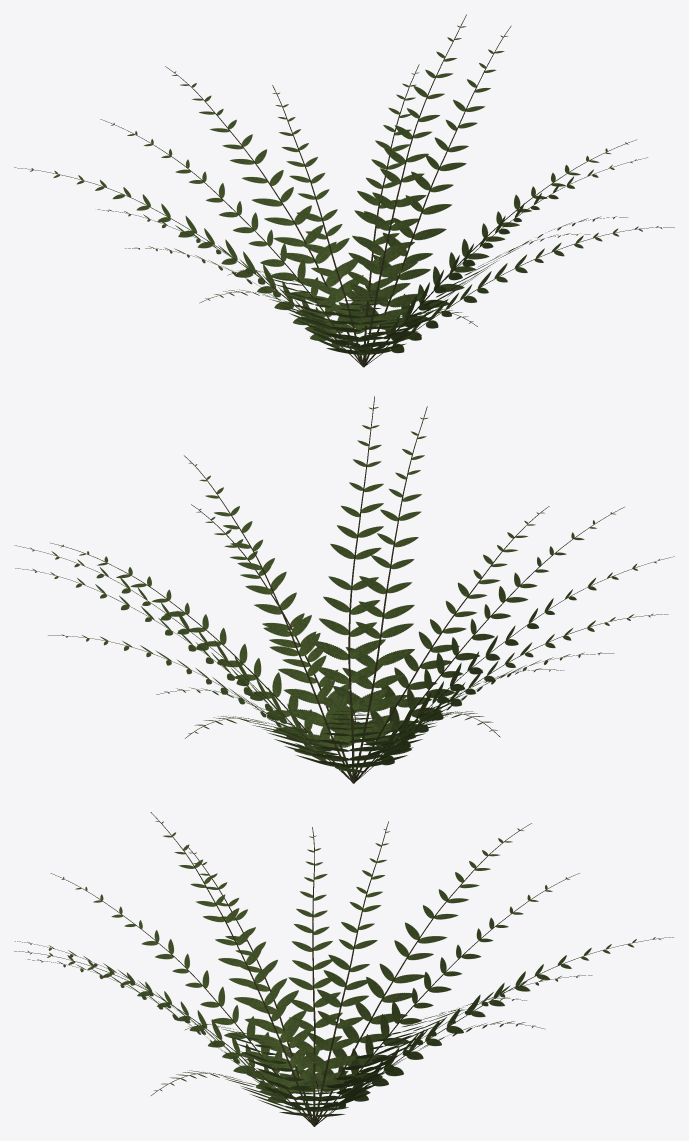
The model's file is lady_fern_v01_LOD1.glb.
3 renders of one model, top to bottom at view 1: azimuth 30°, elevation 25°; view 2: azimuth 150°, elevation 25°; view 3: azimuth 270°, elevation 25°, orthographic. The views are drawn at different scales.
Parts seen in each view (by area): view 1: lady_fern_v01_LOD1; view 2: lady_fern_v01_LOD1; view 3: lady_fern_v01_LOD1.
Boxes of the visible parts, left/top/right/bottom form: lady_fern_v01_LOD1: left=14, top=14, right=674, bottom=367; lady_fern_v01_LOD1: left=14, top=396, right=674, bottom=783; lady_fern_v01_LOD1: left=14, top=812, right=673, bottom=1126.
Size of the model in its own units: 1.11 by 0.4603 by 1.21.
Materials: 2 (2 with a texture image).
